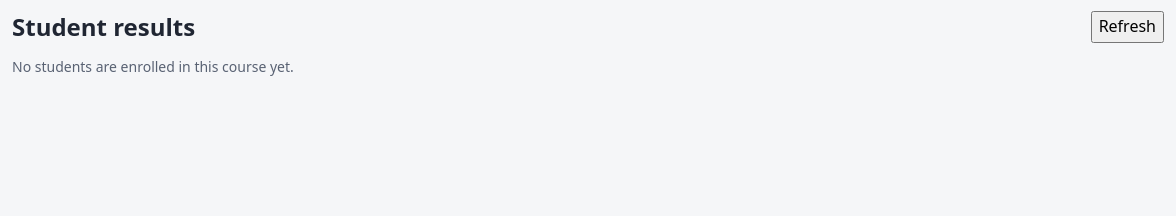
Test: QuizResults › refreshes the results
Expected: the text "No students are enrolled in this course yet." is shown, [12,57,294,76]
Step 1. Click the button "Refresh" → [1127, 27], box [1091,11,1164,43]
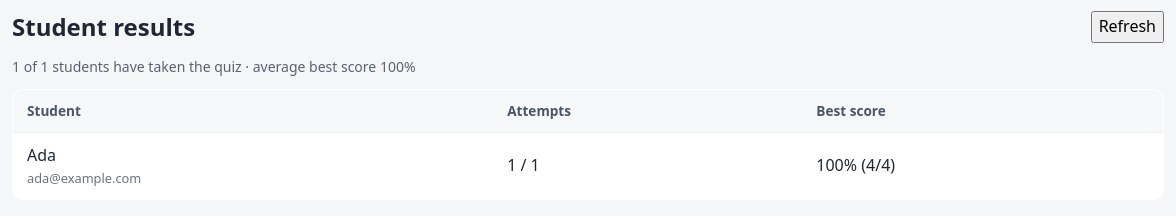
Expected: the text "100% (4/4)" is shown, [802,132,1164,199]
